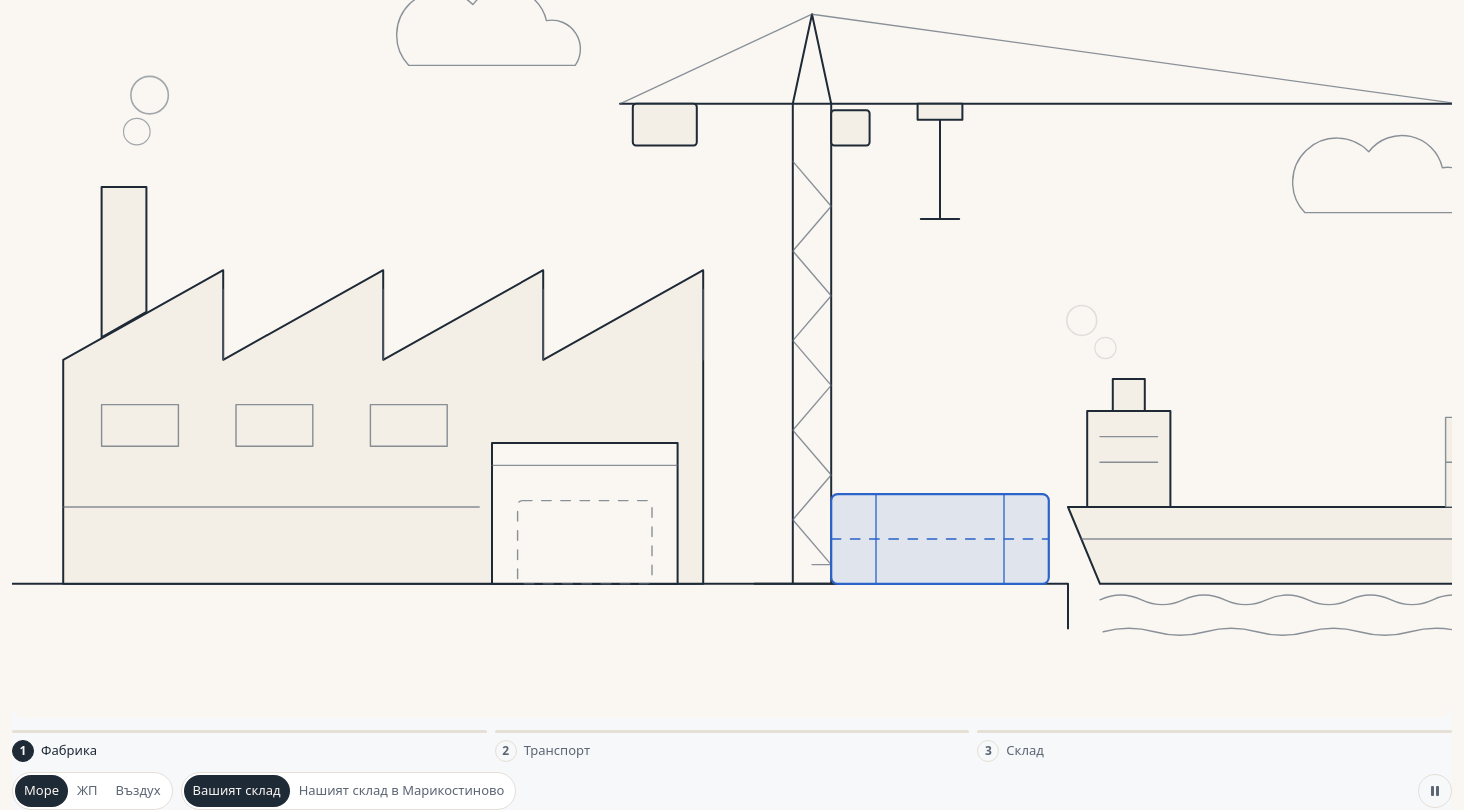
Test: PartnerJourney › jumps to a step when it is pressed, and pauses and plays
(page scrolled)
What coordinates should you click on to do the following:
click the button with aria-label "Стъпка 3"
I would click on:
 (1215, 732)
Its box is [977,726,1452,768].
Wait 300 ms
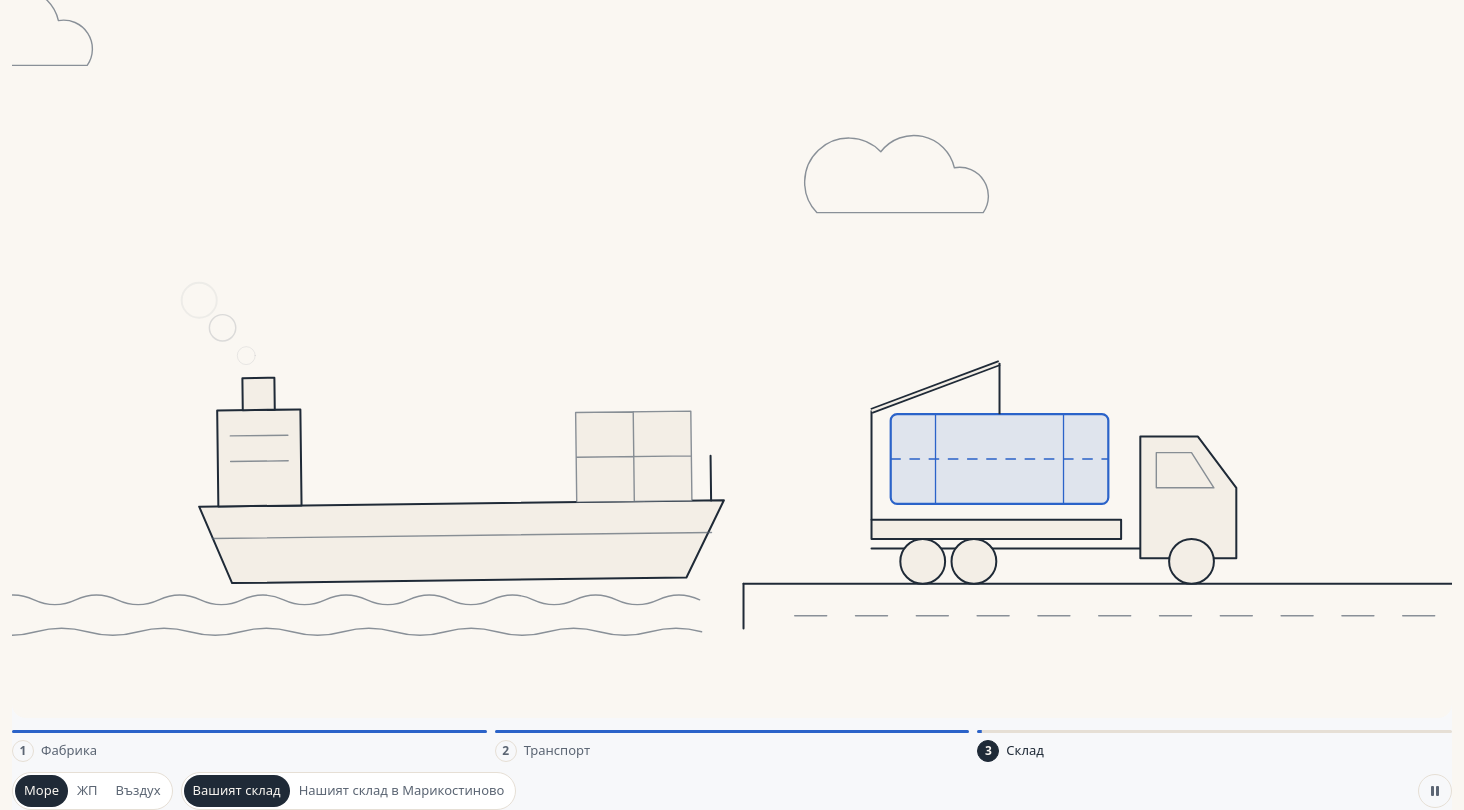
Result: the button with aria-label "Стъпка 3" is marked as current at [977,726,1452,768]
Result: the button with aria-label "Стъпка 1" does not have attribute aria-current at [12,726,487,768]
What coordinates should you click on to do the following:
click the button with aria-label "Стъпка 2"
I would click on:
 (732, 732)
Its box is [495,726,969,768].
Wait 300 ms
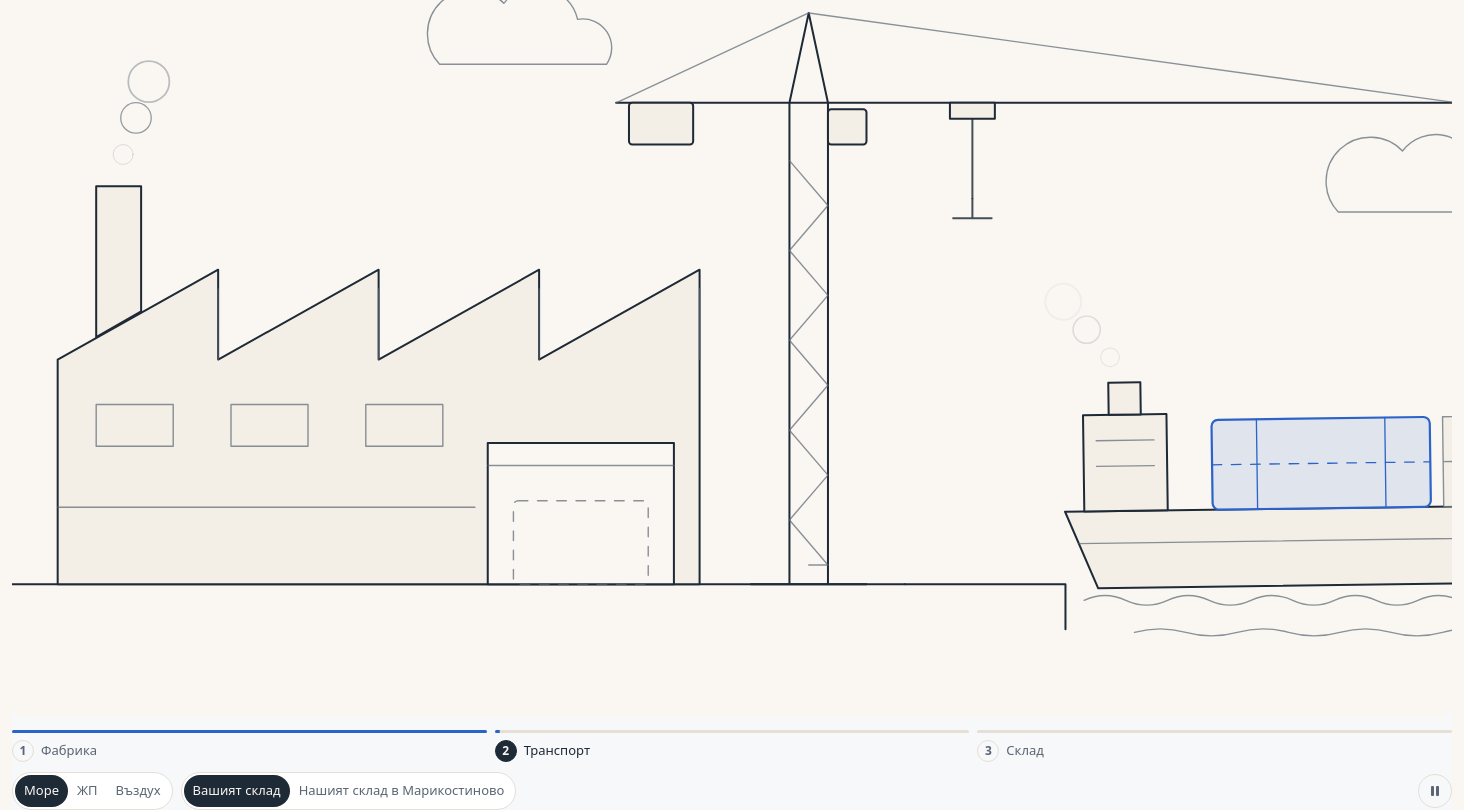
What coordinates should you click on to do the following:
click the button named "Пауза"
I would click on:
 (1435, 791)
Its box is [1418,774,1452,808].
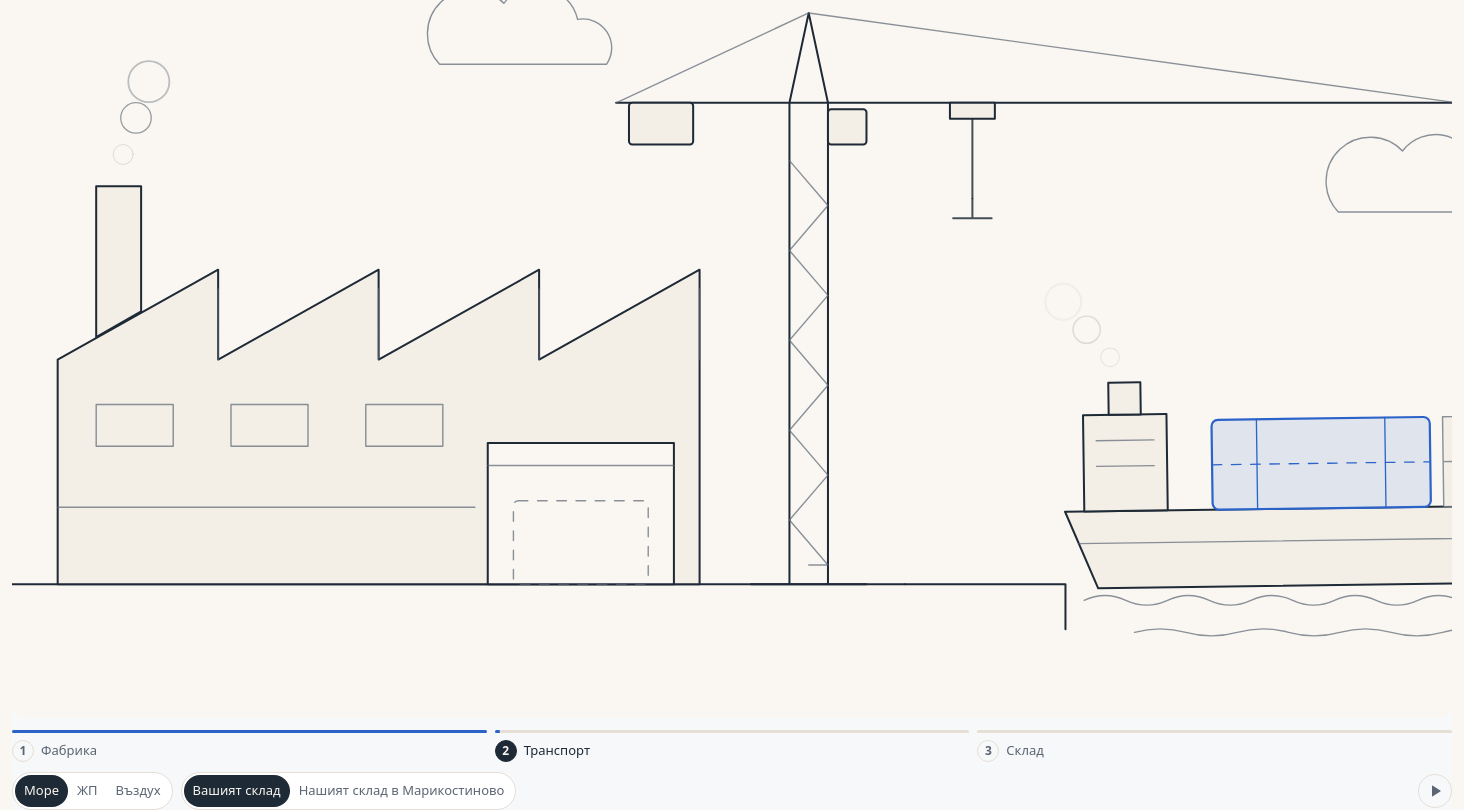
Result: the button named "Пусни" is shown
What coordinates should you click on to do the following:
click the button named "Пусни"
I would click on:
 (1435, 791)
Its box is [1418,774,1452,808].
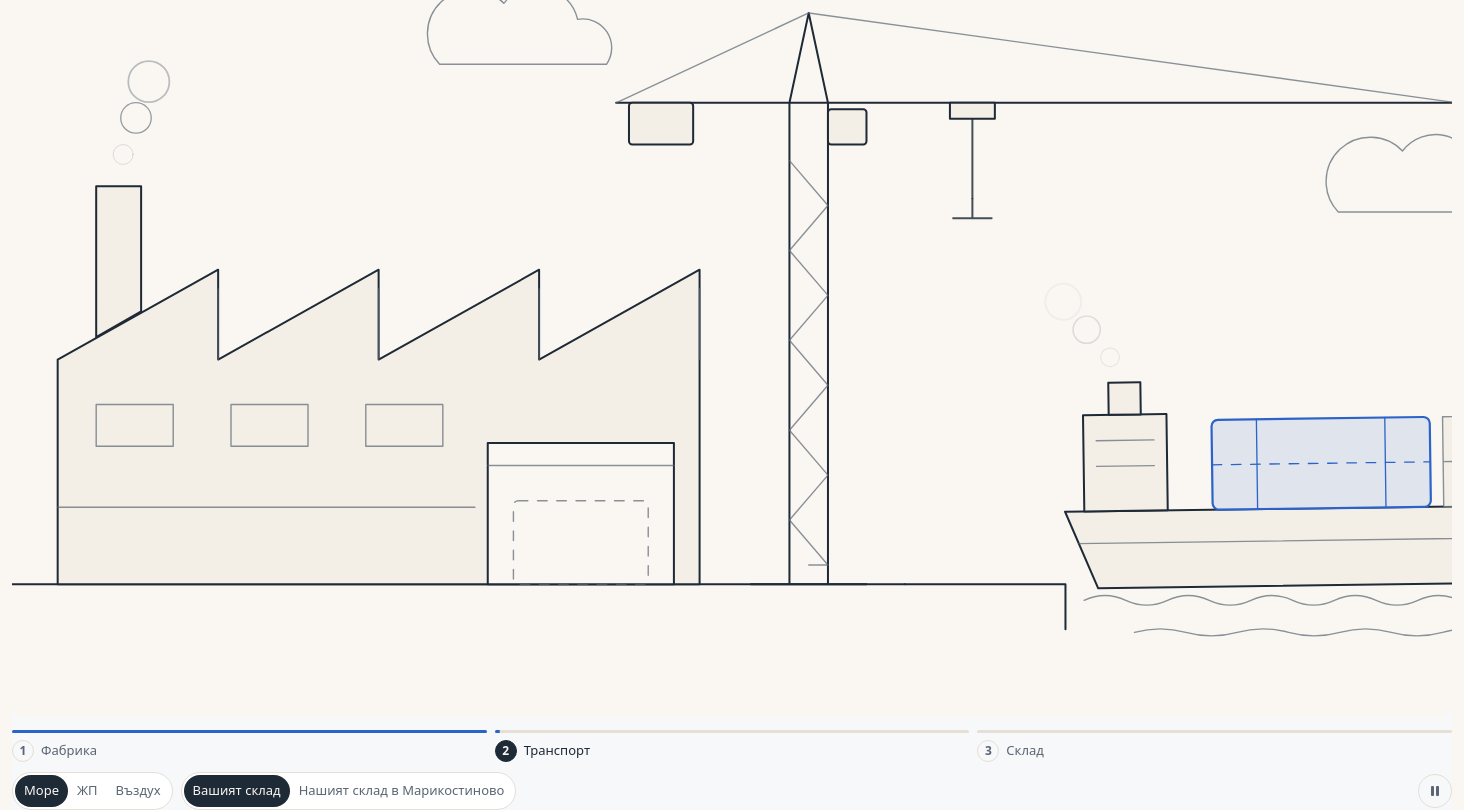
Result: the button named "Пауза" is shown at [1418,774,1452,808]
